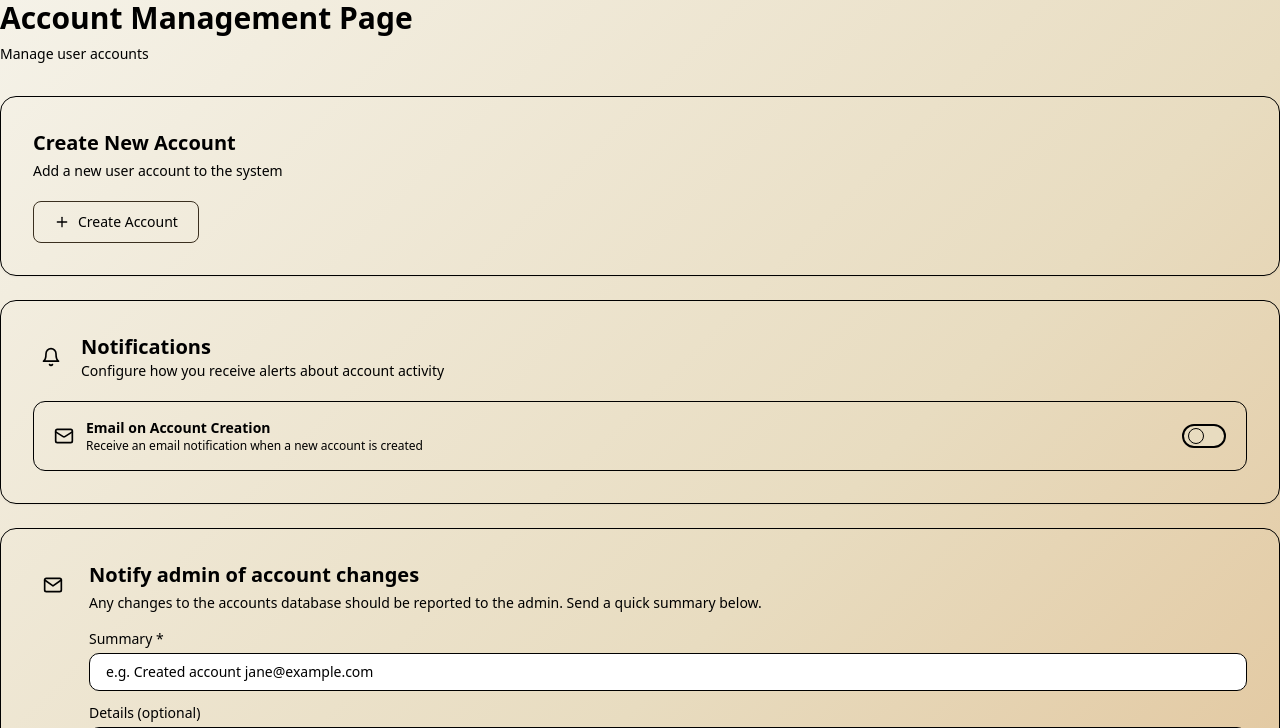
Account creation — AccountManagementPage modal › shows a validation error when passwords do not match
Click the button "Create Account" at coordinates (116, 222), box [33,201,199,243]
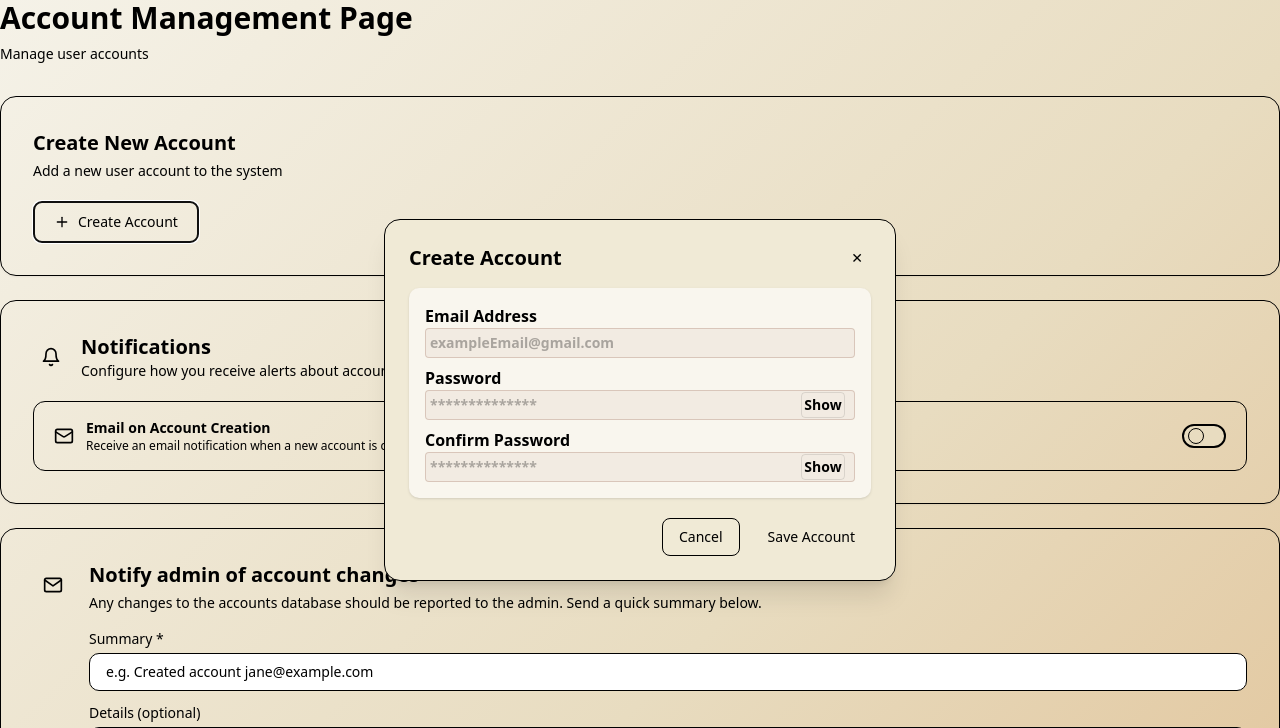
Type "user@example.com" into the field labelled "Email Address" at coordinates (640, 343), box [425,328,855,358]
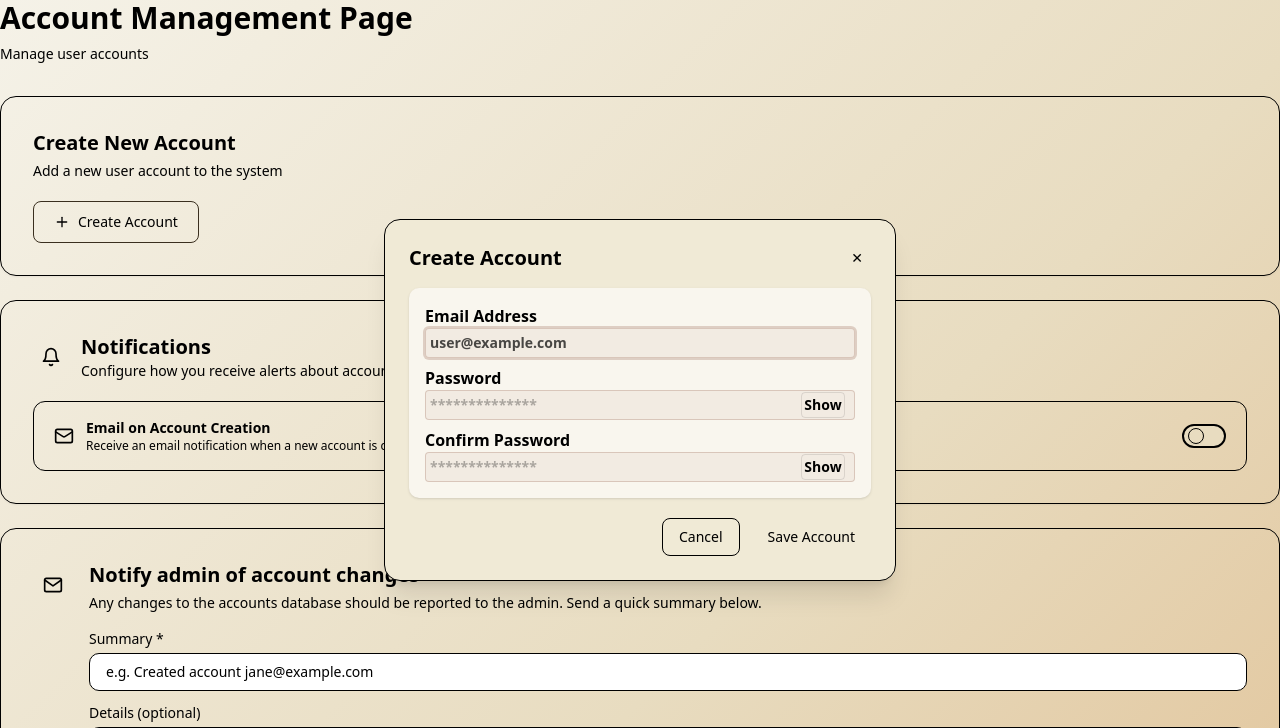
Type "password123" into the password field labelled "Password" at coordinates (640, 405), box [425,390,855,420]
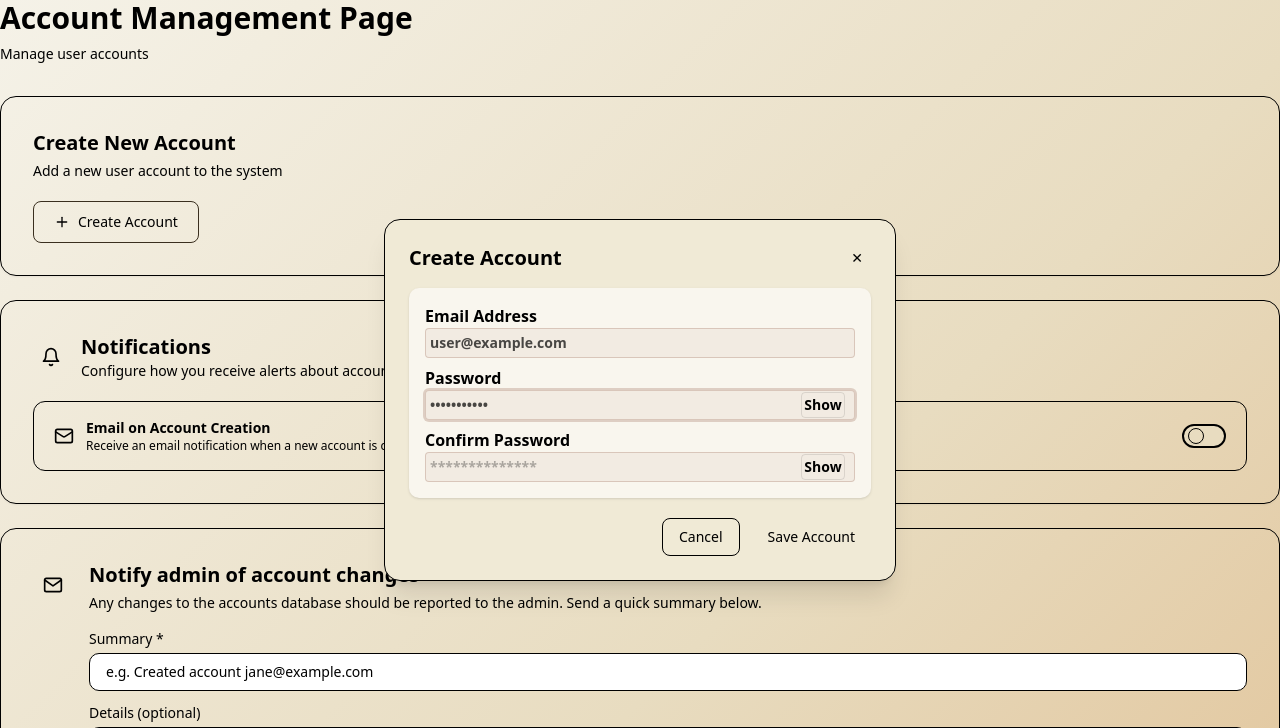
Type "differentpassword" into the password field labelled "Confirm Password" at coordinates (640, 467), box [425,452,855,482]
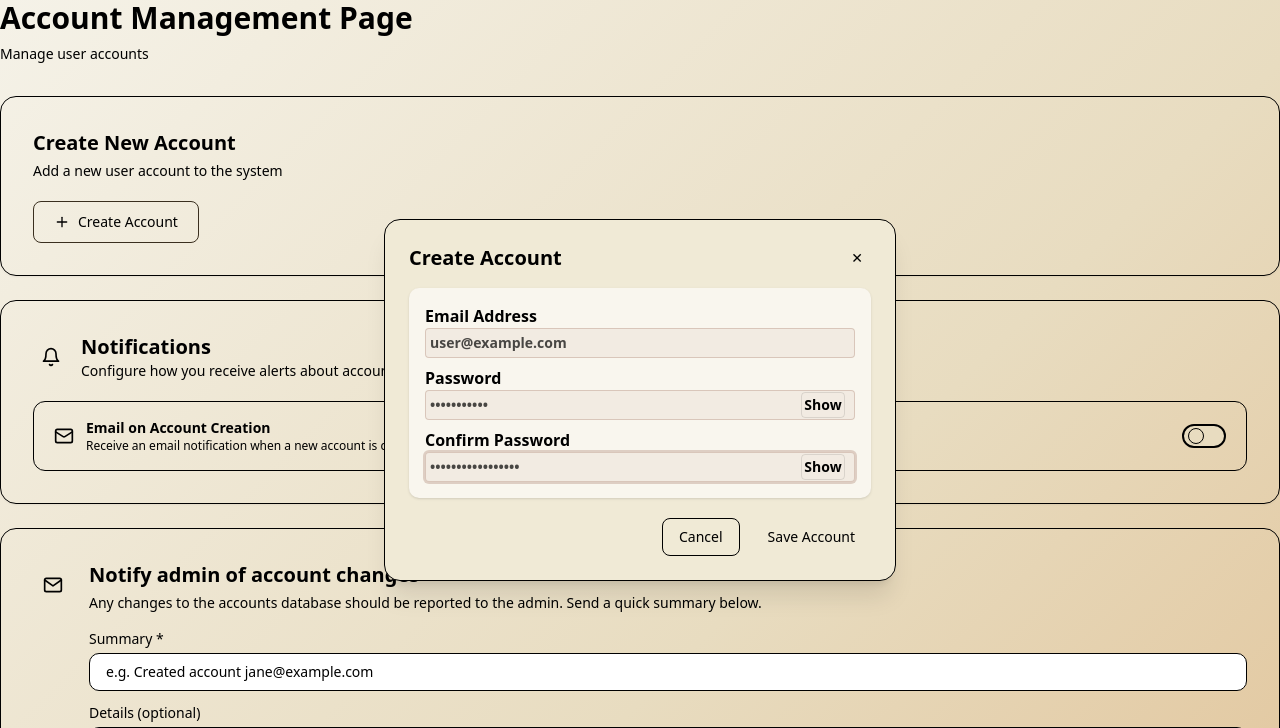
Click the button "Save Account" at coordinates (811, 537), box [752,518,871,556]
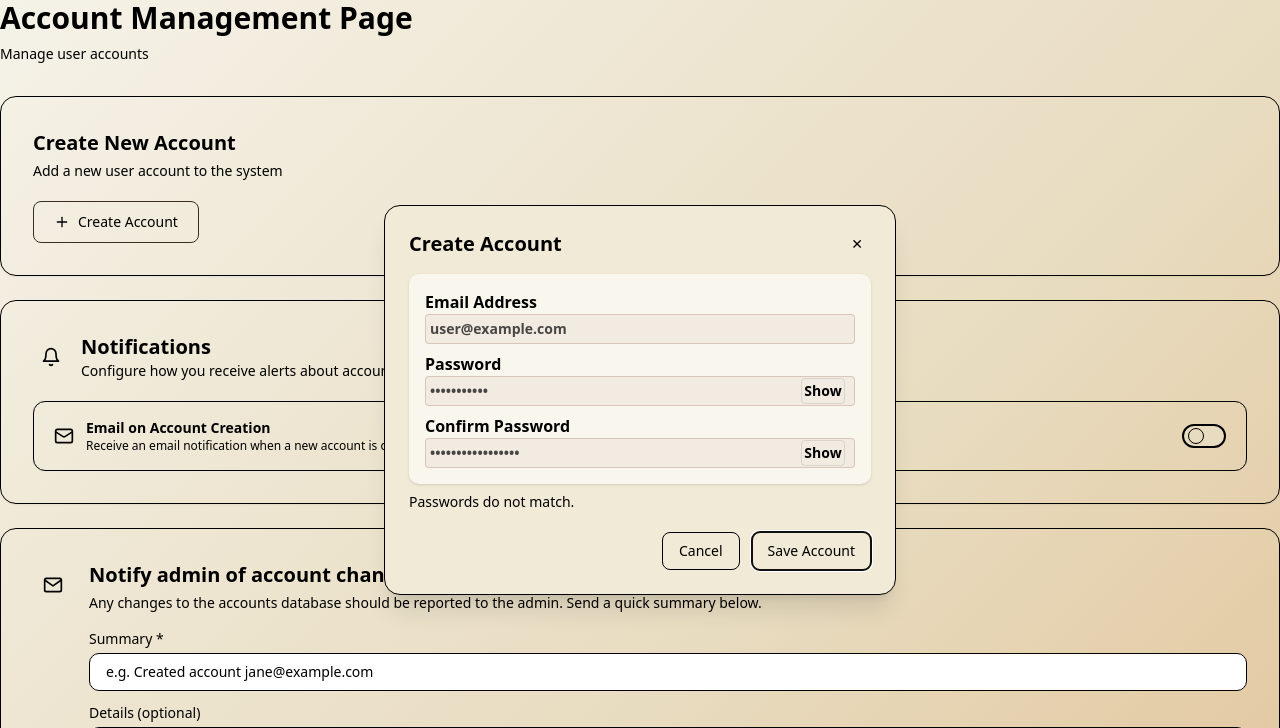
expect the text "Passwords do not match." is shown: met, box [409,492,574,511]
